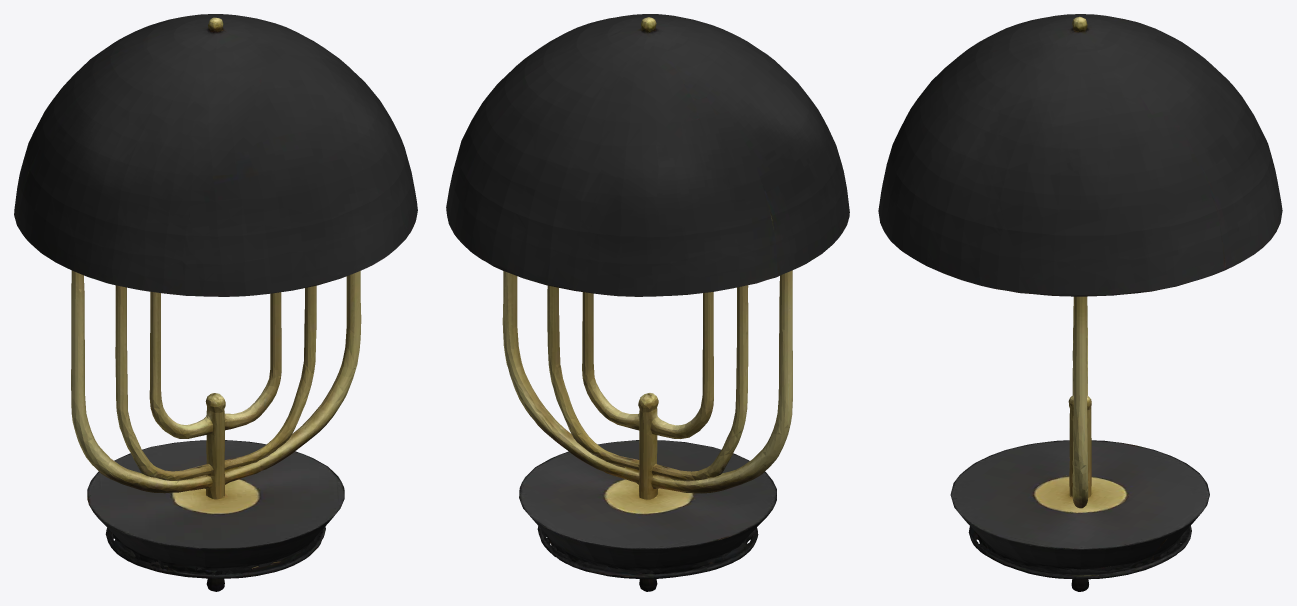
Rendered from cfd4ece3-e5f6-4ce5-bde1-2dcd3ce30d24.glb.
3 views of the same model, side by side, from view 1: azimuth 30°, elevation 25°; view 2: azimuth 150°, elevation 25°; view 3: azimuth 270°, elevation 25° (orthographic).
Visible parts, largest first — view 1: world; view 2: world; view 3: world.
Boxes of the visible parts, box(x1,y1,x2,y2) form: world: box(14, 14, 417, 591); world: box(446, 14, 849, 591); world: box(878, 14, 1282, 591).
Bounding box in the file's own units: 0.5807 × 0.9133 × 0.5829.
Materials: 1 (1 with a texture image).
